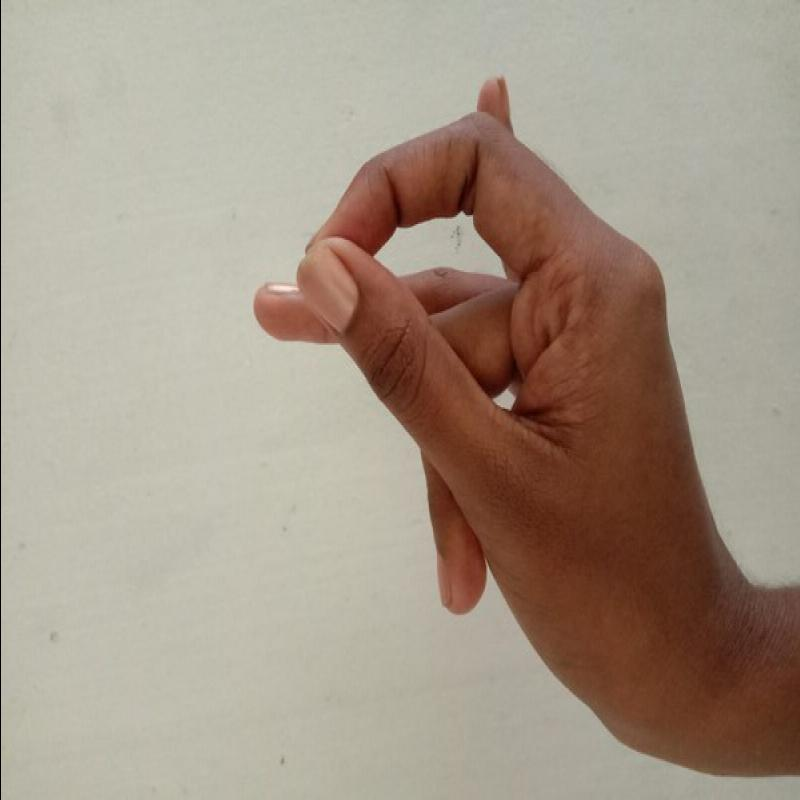Katakam: (236, 45, 708, 707)
